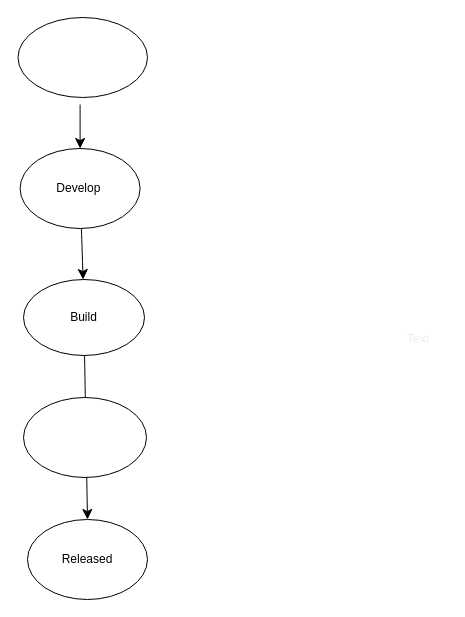
Some shapes in this 465 by 617 pixel diagram are drawn without their labels. Here are the shapes that lost their labels. From the top down, the centre of each, then its label:
At point (82, 57): "Plan".
At point (84, 437): "Test".
